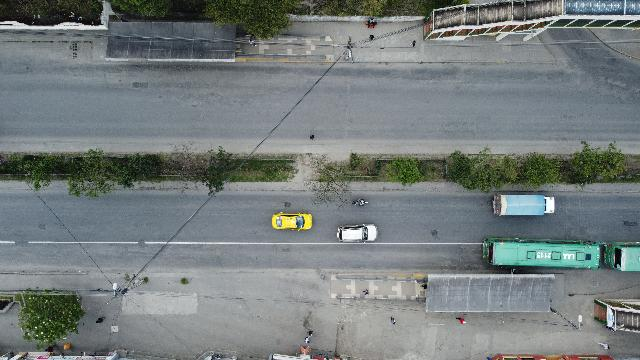Vehiculo: (337, 224, 378, 243), (272, 212, 312, 230)
